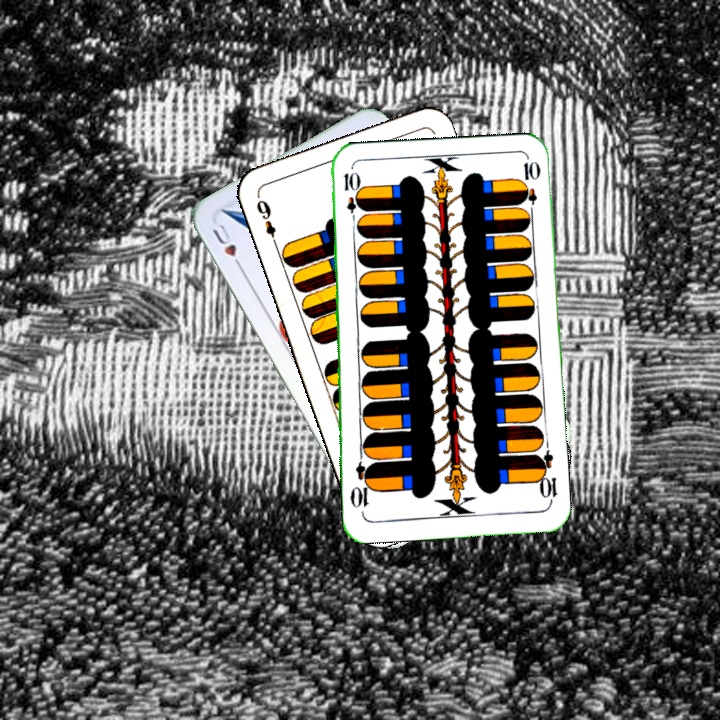E10: (532, 447, 560, 507), (340, 168, 360, 227)
E9: (252, 195, 281, 250)
HU: (208, 219, 246, 274)
